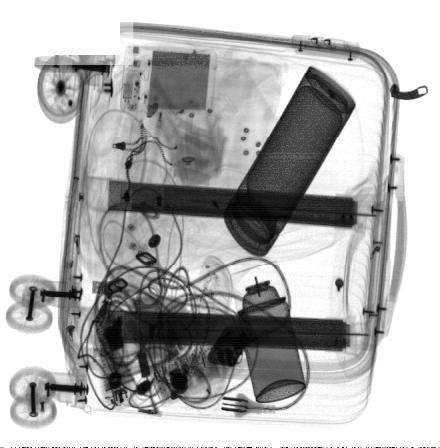Lighter: (207, 325, 253, 368)
Powerbank: (120, 45, 218, 114)
Sprayer: (231, 259, 307, 404)
